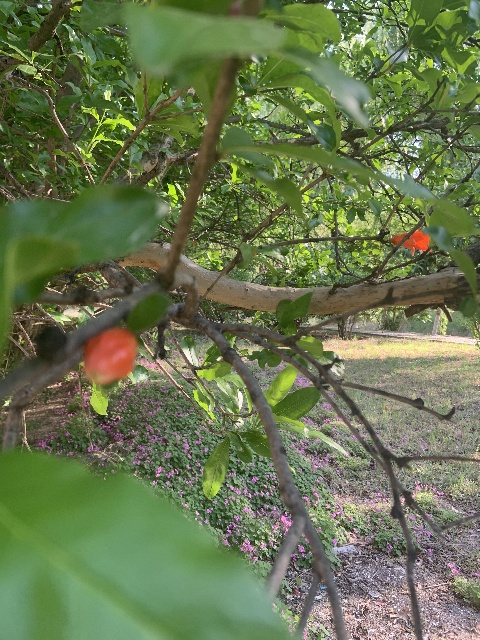bud: (82, 327, 137, 386)
flower: (390, 229, 430, 255)
